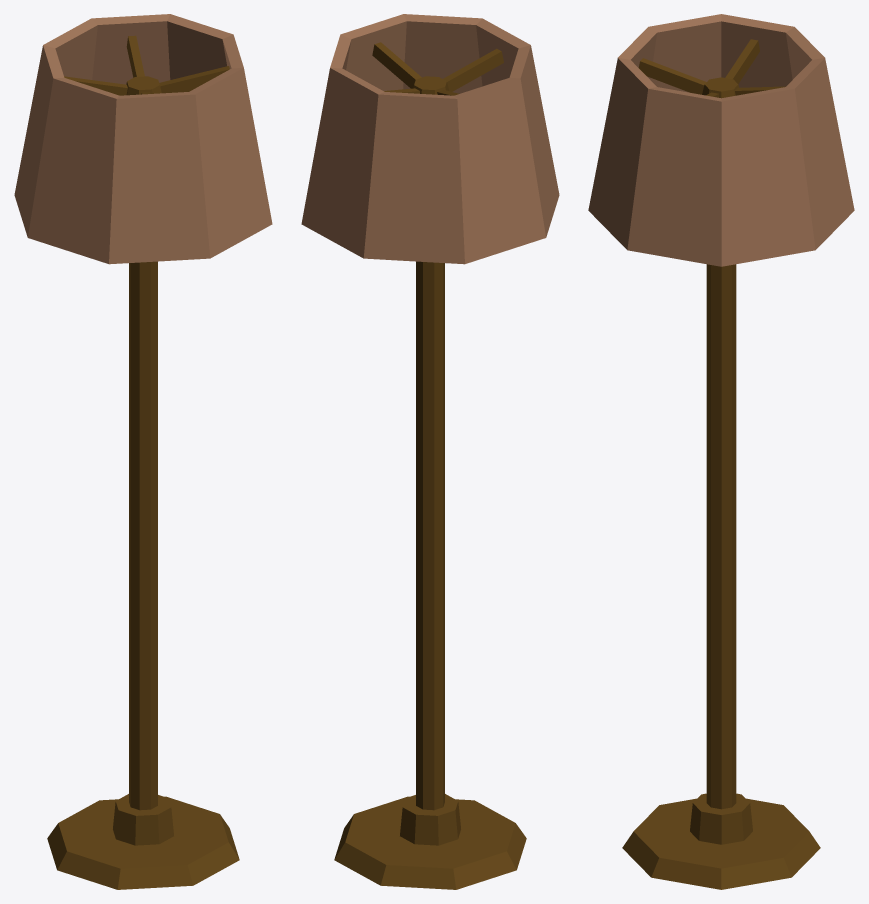
The model's file is StandingLamp.glb.
3 renders of one model, left to right at view 1: azimuth 30°, elevation 25°; view 2: azimuth 150°, elevation 25°; view 3: azimuth 270°, elevation 25°, orthographic.
Parts seen in each view (by area): view 1: StandingLamp; view 2: StandingLamp; view 3: StandingLamp.
Part boxes in pixels (box(x1,y1,x2,y2)): StandingLamp: box(14, 14, 272, 889); StandingLamp: box(301, 14, 559, 889); StandingLamp: box(588, 14, 854, 889).
Size of the model in its own units: 0.6047 by 1.98 by 0.6047.
